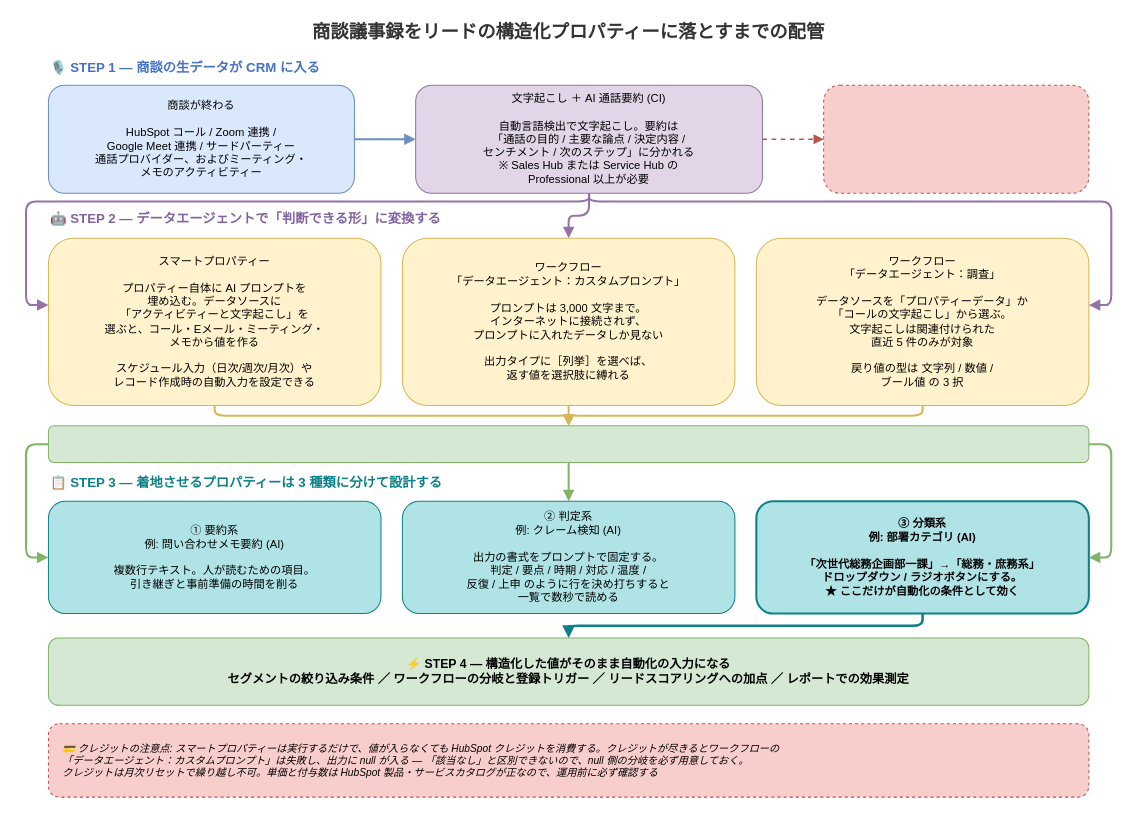
This 1137x815 diagram has some shape labels left out. Each missing label, with the centre of its shape:
"⚠️ ここで止めると 「読めるが効かない」 要約はコール側の自由記述で 編集不可。人は読めるが、 リードの絞り込み条件や 分岐には使いにくい" belongs at (956,138).
"書き込み: ［レコードを編集］アクションで応答をプロパティーに入れる ／ ［スマートフィルプロパティー］で一括入力する" belongs at (568,444).
